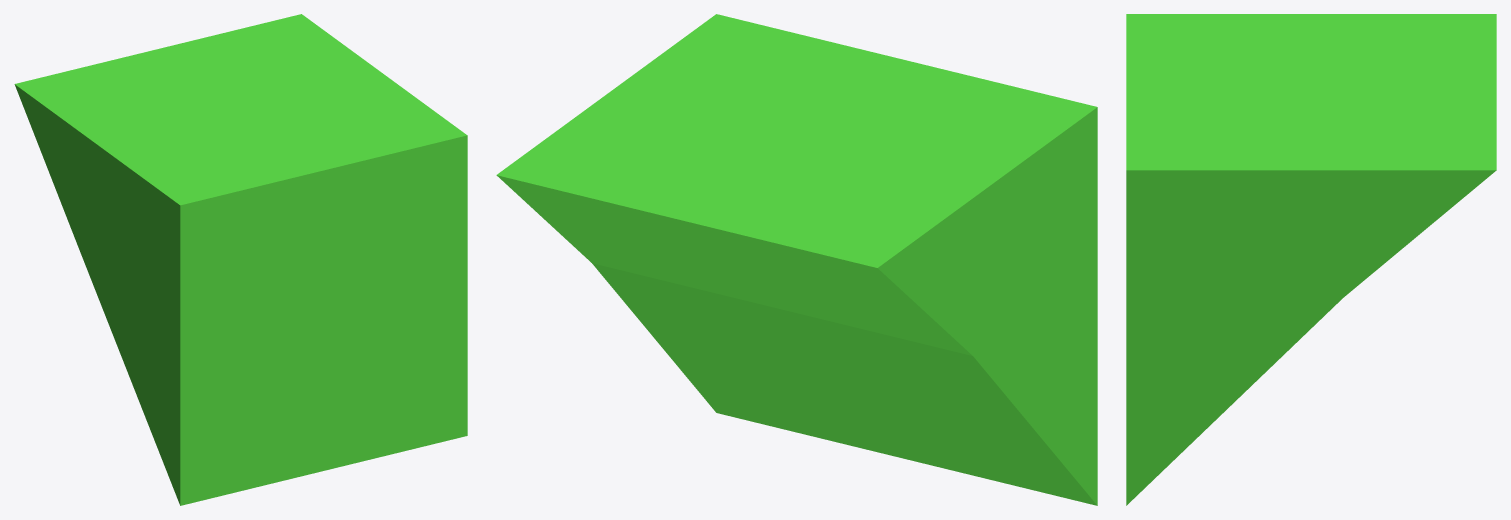
The model's file is triangle_prism.fbx.
3 renders of one model, left to right at view 1: azimuth 30°, elevation 25°; view 2: azimuth 150°, elevation 25°; view 3: azimuth 270°, elevation 25°, orthographic. The views are drawn at different scales.
Parts seen in each view (by area): view 1: Cube; view 2: Cube; view 3: Cube.
Part boxes in pixels (x1,y1,x2,y2): Cube: (14, 14, 467, 505); Cube: (496, 14, 1097, 505); Cube: (1126, 14, 1496, 505).
Size of the model in its own units: 202 by 200 by 200.
